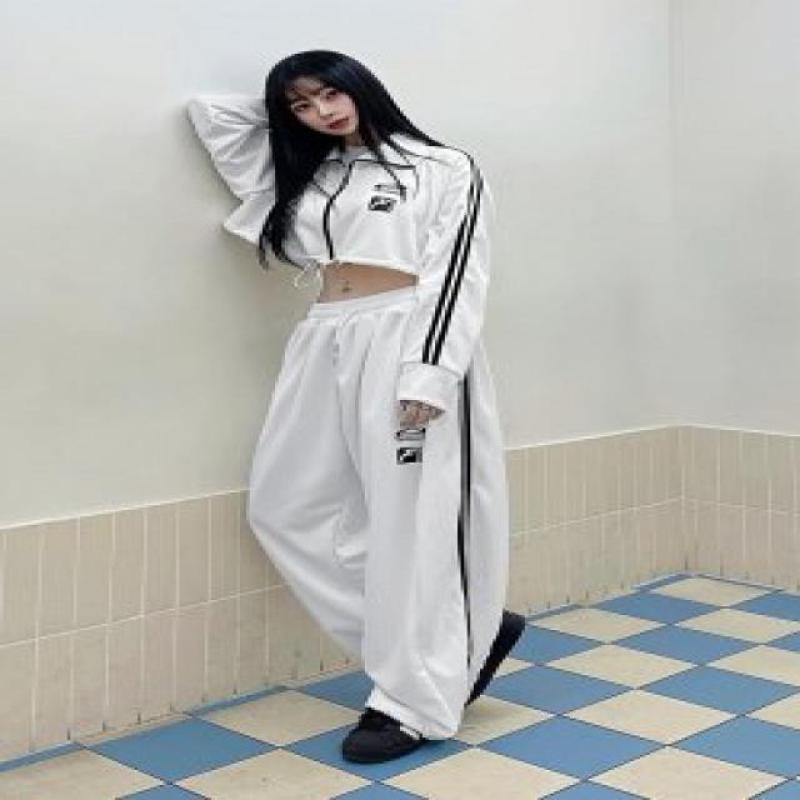jacket: (185, 93, 495, 414)
trousers: (243, 283, 511, 744)
